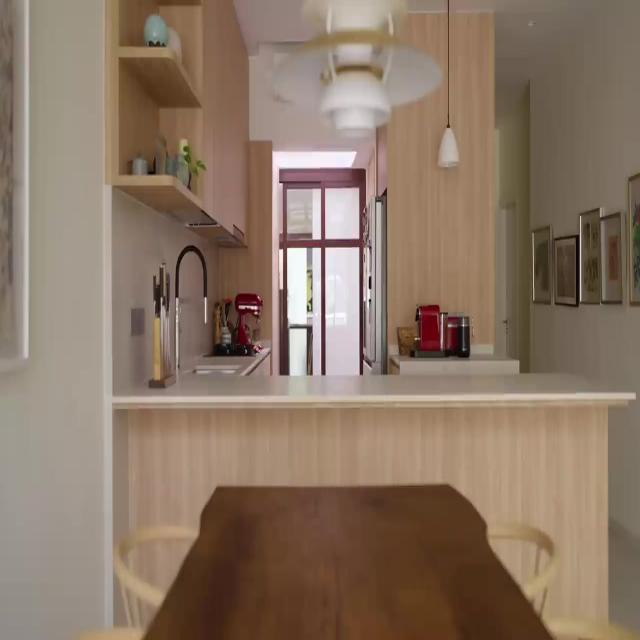door: (278, 167, 366, 375)
obstacle: (140, 482, 556, 638), (105, 0, 249, 247), (361, 192, 387, 374)
